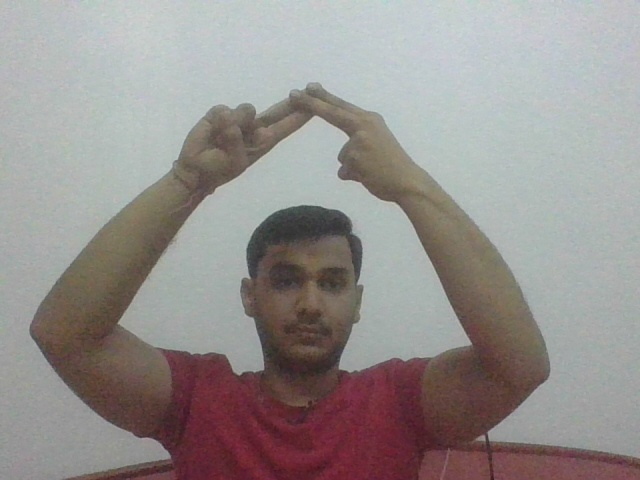F: (186, 78, 416, 202)
